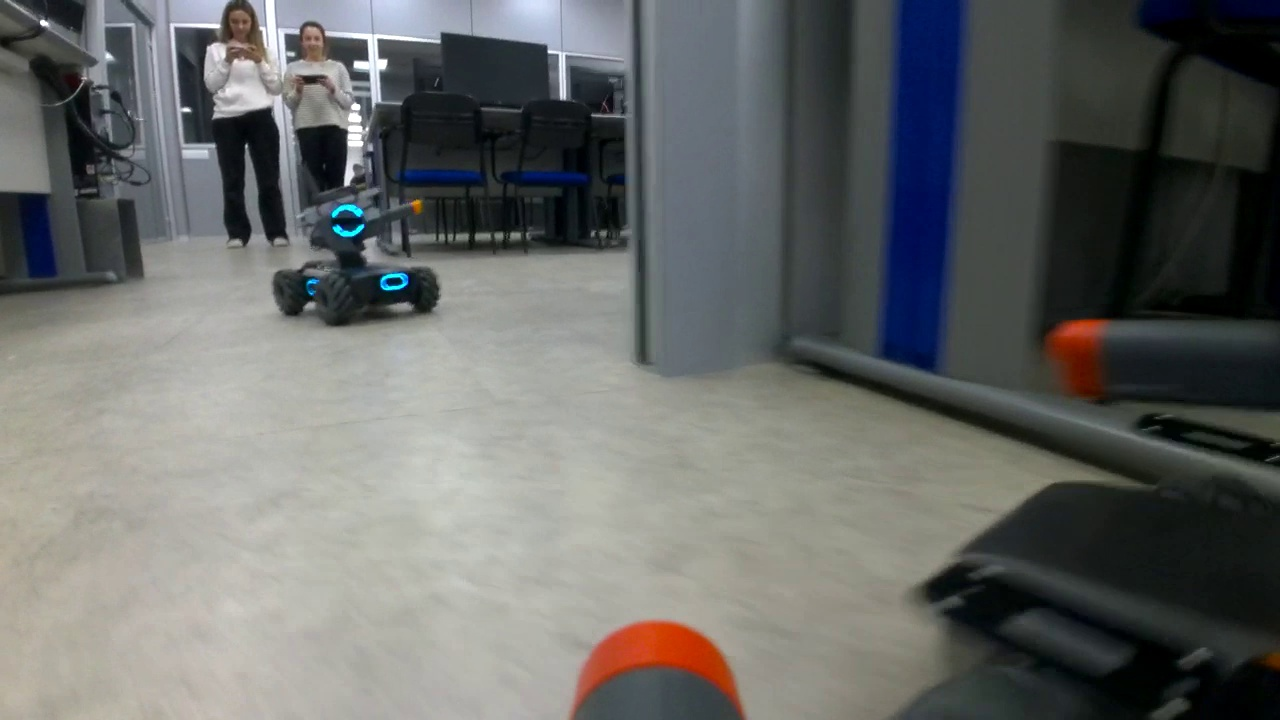robot: (271, 184, 441, 330)
